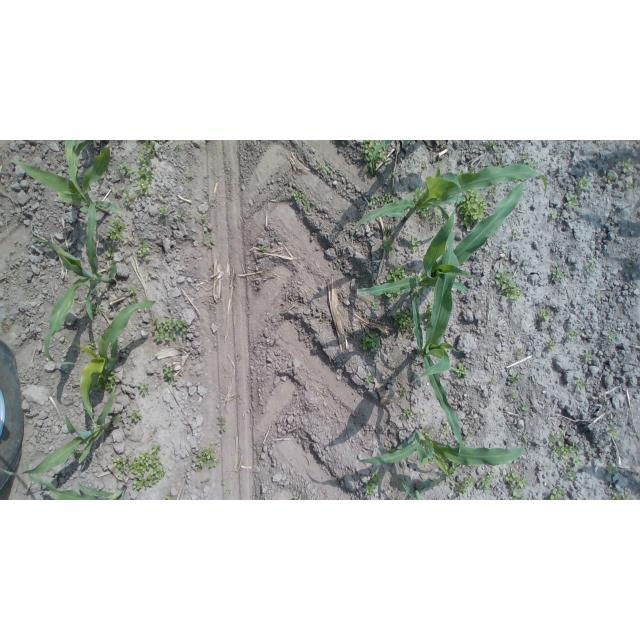Maize: (356, 181, 525, 296), (350, 162, 549, 235), (33, 198, 118, 366), (407, 231, 466, 456), (1, 383, 122, 478), (349, 425, 526, 487), (73, 301, 156, 432), (9, 140, 123, 216), (25, 457, 126, 500), (369, 141, 411, 176), (398, 474, 423, 500)
Weeds: (113, 445, 167, 492), (456, 188, 489, 227), (135, 150, 158, 196), (495, 271, 524, 301), (152, 318, 188, 342), (363, 141, 387, 172), (94, 363, 118, 392), (504, 472, 528, 501), (193, 446, 217, 470), (359, 331, 383, 352), (362, 472, 383, 496), (107, 218, 127, 242), (292, 190, 312, 213), (553, 443, 579, 460), (394, 310, 415, 331), (457, 476, 475, 498), (386, 264, 406, 282), (369, 192, 394, 206), (480, 472, 496, 493), (137, 240, 152, 261), (549, 428, 567, 445), (423, 302, 433, 327), (127, 408, 144, 422), (407, 236, 421, 253), (452, 363, 469, 377), (162, 365, 174, 384), (562, 465, 576, 481), (547, 488, 565, 500), (416, 207, 432, 220), (444, 460, 457, 476), (610, 492, 632, 501), (577, 177, 591, 191), (607, 425, 620, 440), (124, 190, 137, 204), (552, 268, 565, 282), (385, 290, 400, 302), (564, 195, 579, 207), (90, 303, 104, 315), (119, 162, 133, 174), (425, 478, 441, 488), (380, 240, 392, 253), (412, 286, 425, 298), (484, 140, 497, 152), (317, 162, 331, 173), (623, 159, 633, 174), (577, 380, 588, 393), (128, 287, 136, 304), (104, 246, 115, 258), (400, 408, 412, 419), (424, 429, 436, 440), (582, 350, 593, 362), (508, 375, 521, 385), (607, 464, 618, 475), (521, 152, 530, 165), (85, 340, 96, 350), (605, 173, 615, 184), (539, 310, 549, 321), (144, 141, 156, 150), (547, 340, 556, 352), (495, 157, 505, 167), (365, 373, 375, 383), (139, 383, 148, 394), (586, 262, 595, 273), (568, 331, 579, 340), (573, 459, 583, 468), (488, 187, 497, 196), (441, 425, 449, 435), (608, 332, 616, 342), (220, 424, 228, 433), (160, 208, 169, 216), (177, 212, 185, 221), (370, 303, 378, 312), (386, 444, 395, 452), (435, 215, 442, 225), (627, 183, 634, 193), (196, 215, 207, 221), (174, 143, 184, 149), (383, 227, 393, 233), (208, 240, 216, 247), (421, 163, 428, 171), (411, 272, 419, 279), (515, 348, 522, 356), (456, 170, 466, 175), (533, 160, 538, 170), (209, 201, 216, 208), (551, 212, 557, 220), (521, 404, 529, 410), (259, 246, 268, 251), (167, 494, 174, 500), (188, 172, 195, 178), (388, 171, 394, 178), (511, 392, 517, 399), (417, 412, 424, 418), (296, 496, 305, 500), (597, 293, 604, 298), (545, 466, 552, 471), (412, 330, 417, 336), (512, 232, 518, 237), (467, 434, 473, 439), (456, 463, 462, 468), (204, 227, 209, 232), (627, 263, 632, 268), (321, 318, 326, 322), (490, 380, 495, 384), (396, 497, 402, 500), (500, 243, 504, 247), (159, 140, 165, 142), (400, 389, 404, 392)
